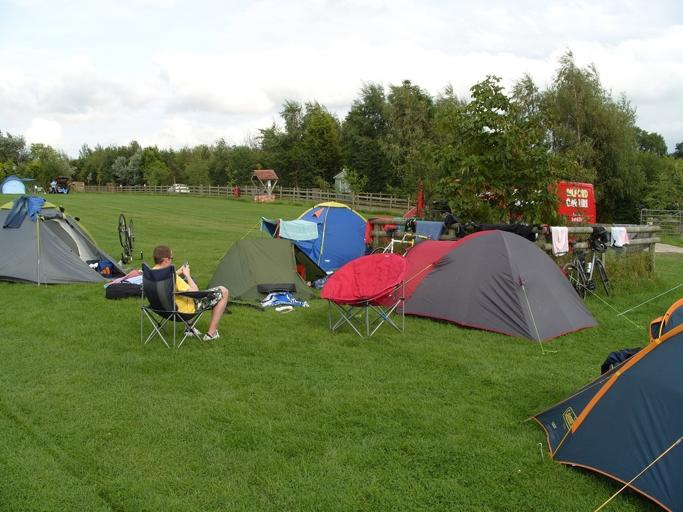non-vehicle: (559, 230, 611, 299), (366, 217, 431, 257), (113, 213, 144, 263)
